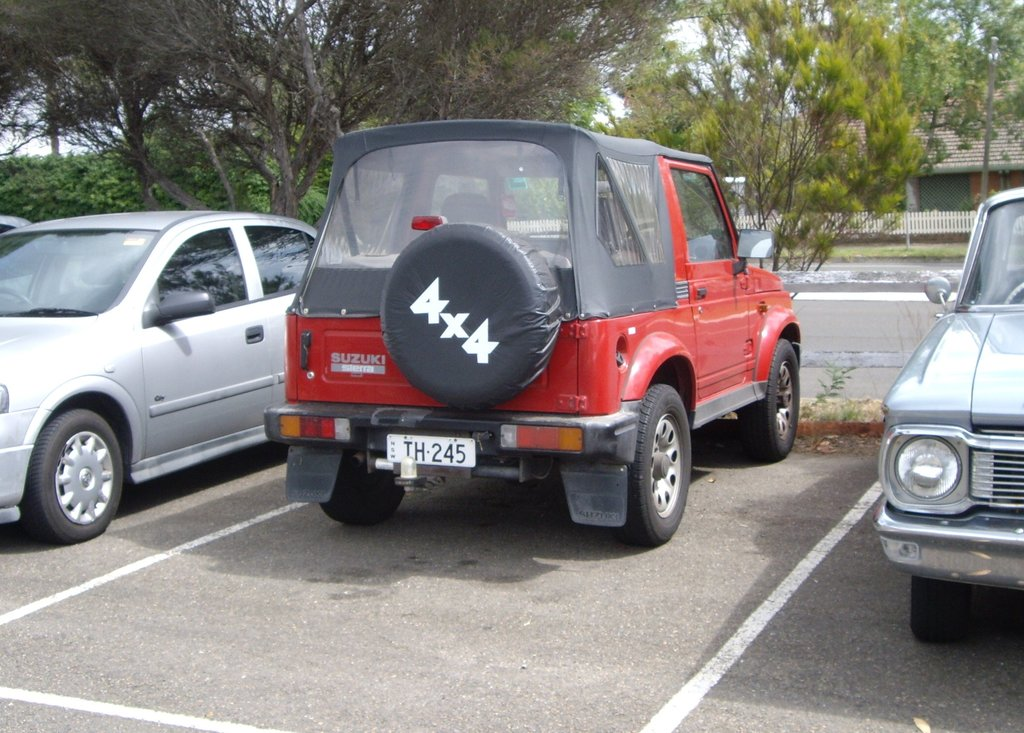Car: (0, 210, 320, 544), (880, 185, 1023, 642), (0, 215, 64, 294)
